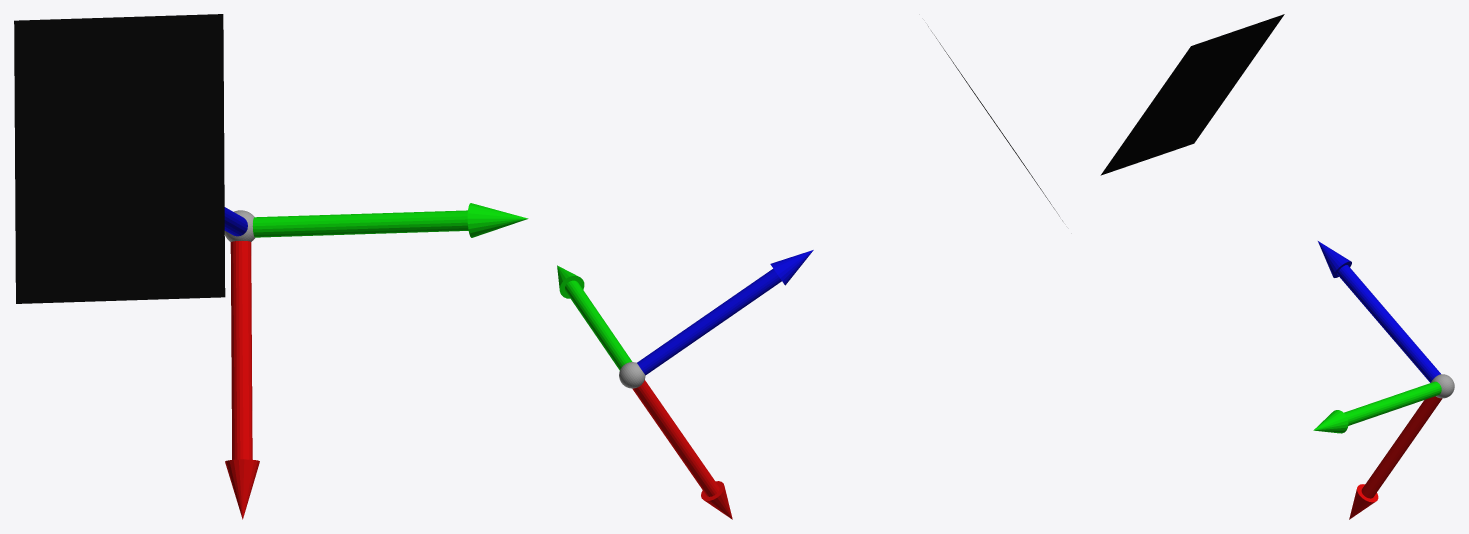
The picture shows the model from 3 angles, left to right: view 1: azimuth 30°, elevation 25°; view 2: azimuth 150°, elevation 25°; view 3: azimuth 270°, elevation 25°; orthographic projection. The views are drawn at different scales.
Size of the model in its own units: 0.294 by 0.2919 by 0.2186.
